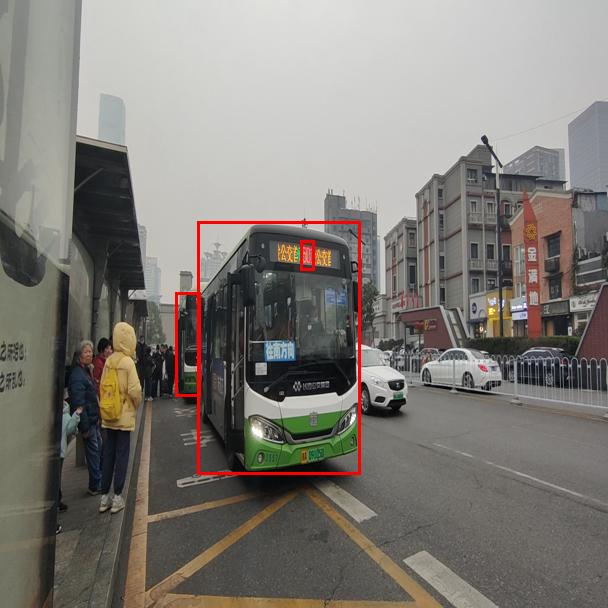bus: (197, 221, 360, 474), (175, 292, 200, 396)
screen: (300, 240, 314, 270)
